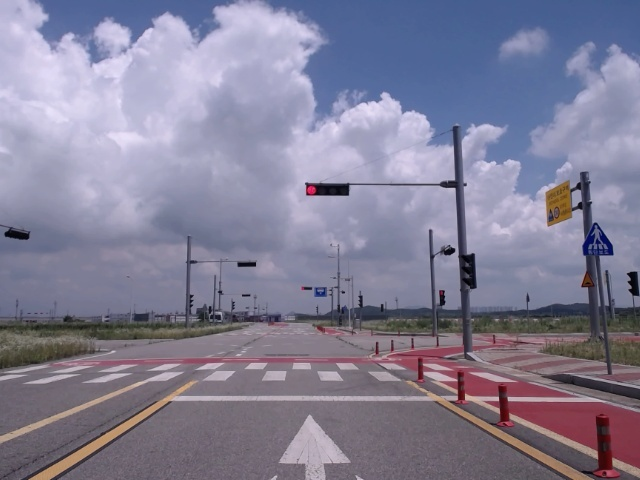red_4: (306, 184, 349, 196)
